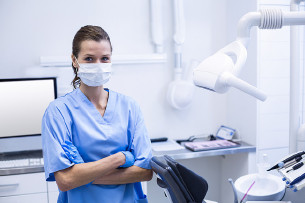face_mask: (77, 41, 110, 85)
